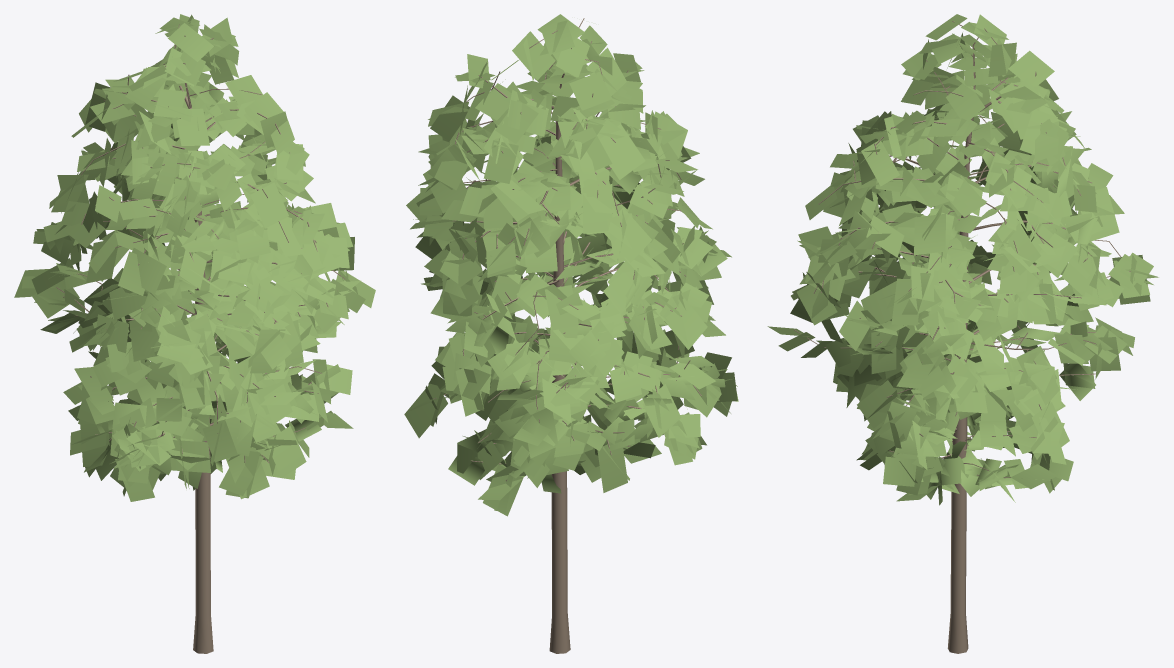
File: Birch_1_lod1.glb
3 renders of one model, left to right at view 1: azimuth 30°, elevation 25°; view 2: azimuth 150°, elevation 25°; view 3: azimuth 270°, elevation 25°, orthographic. The views are drawn at different scales.
Visible parts, largest first — view 1: Birch_1_lod1; view 2: Birch_1_lod1; view 3: Birch_1_lod1.
Part boxes in pixels (<box>): Birch_1_lod1: <box>14,14,375,653</box>; Birch_1_lod1: <box>404,14,738,653</box>; Birch_1_lod1: <box>767,14,1158,653</box>.
Bounding box in the file's own units: 8.58 × 17.55 × 9.97.
